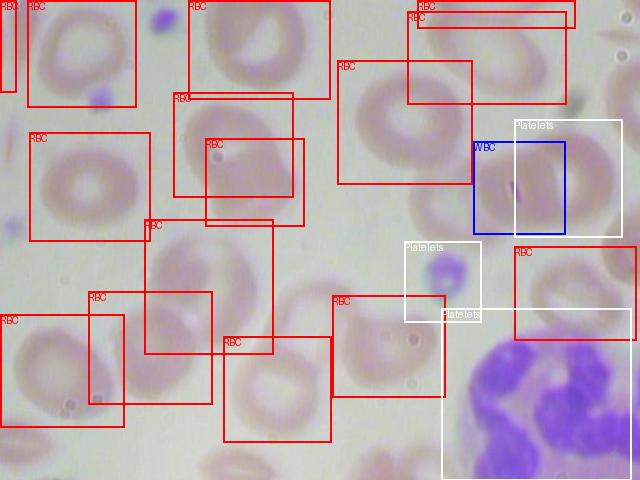Platelets: (441, 308, 631, 480), (514, 119, 622, 237), (404, 241, 481, 322)
RBC: (144, 219, 273, 354), (337, 60, 472, 184), (407, 11, 566, 104), (188, 0, 330, 99), (0, 314, 124, 427), (88, 291, 212, 404), (29, 132, 150, 241), (173, 92, 293, 197), (27, 0, 136, 107), (332, 295, 445, 397), (514, 246, 636, 340), (223, 336, 331, 442), (205, 138, 304, 226), (417, 0, 575, 28), (0, 0, 16, 92)
WBC: (473, 141, 565, 234)
